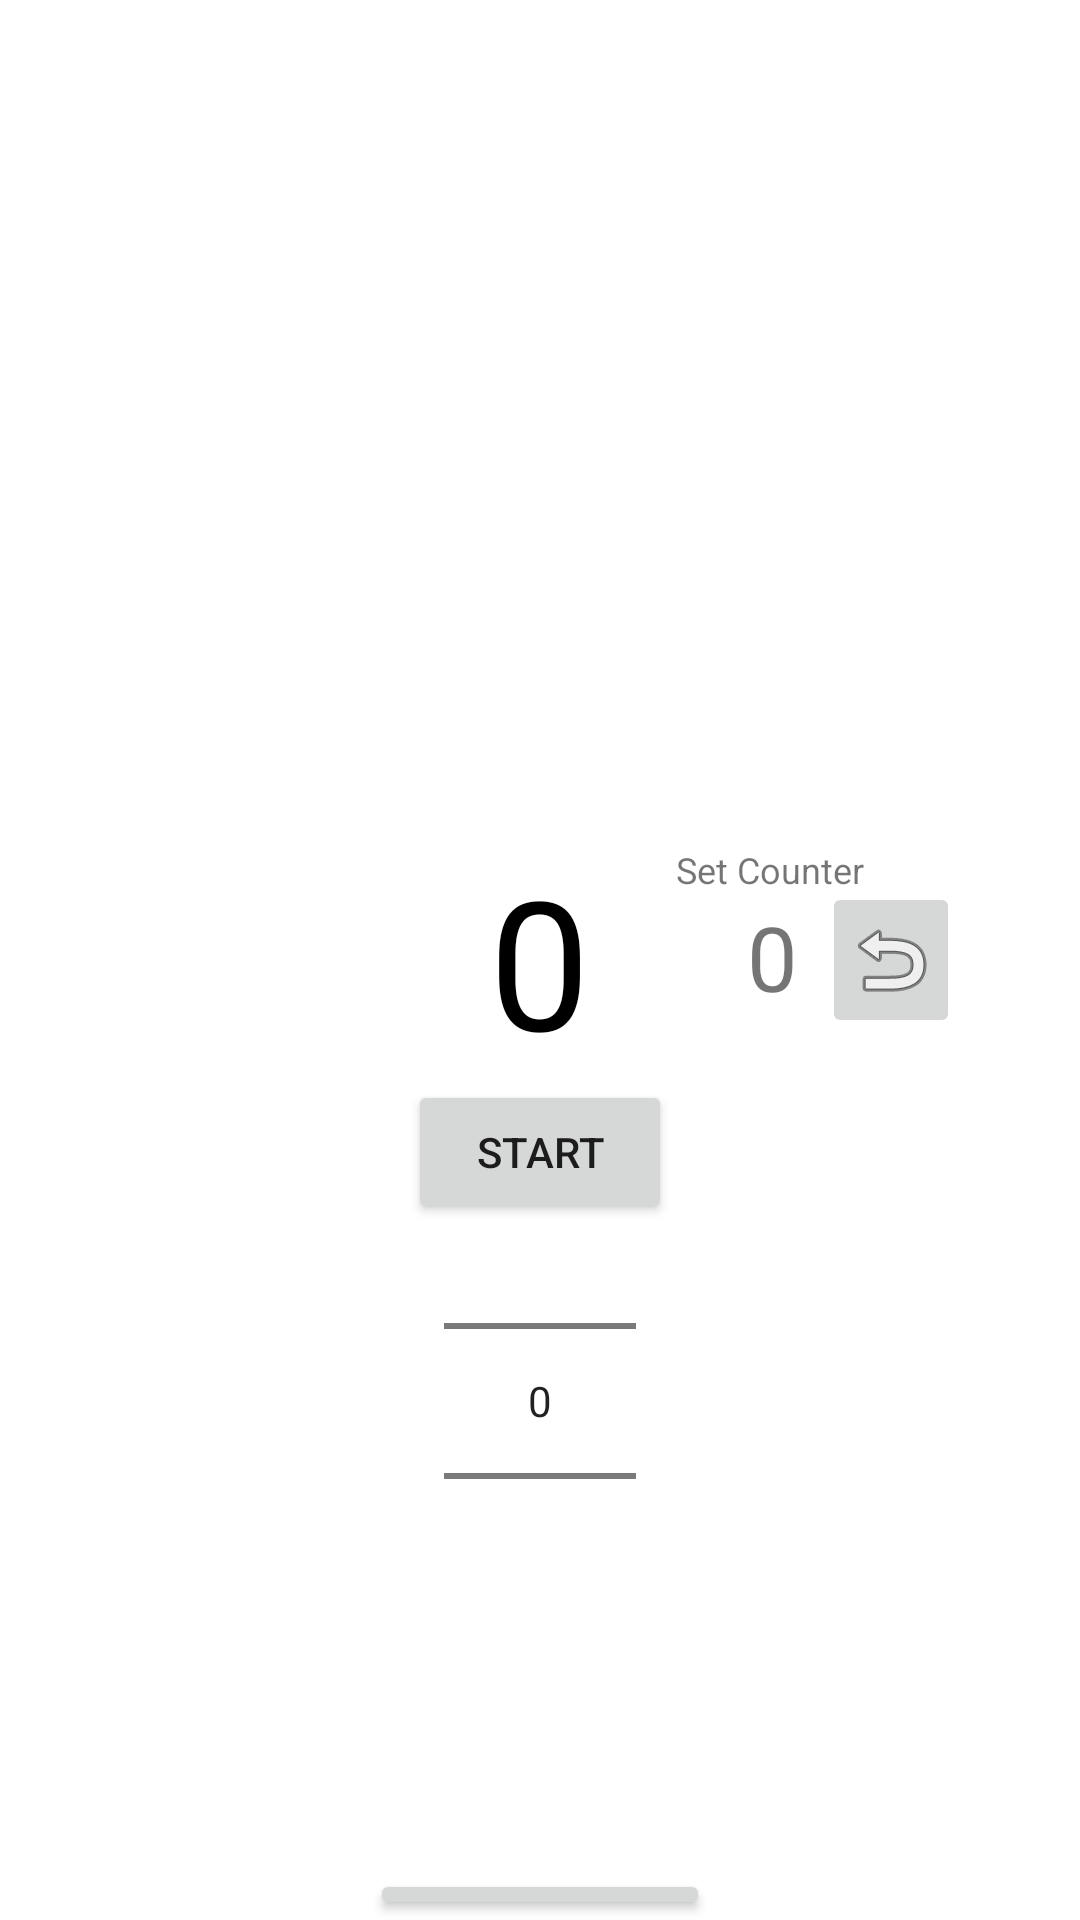

Where icons sit on this 1080 x 1920 app screen, as [x1,y1,x2,y2]:
revert: [834,900,948,1020]
